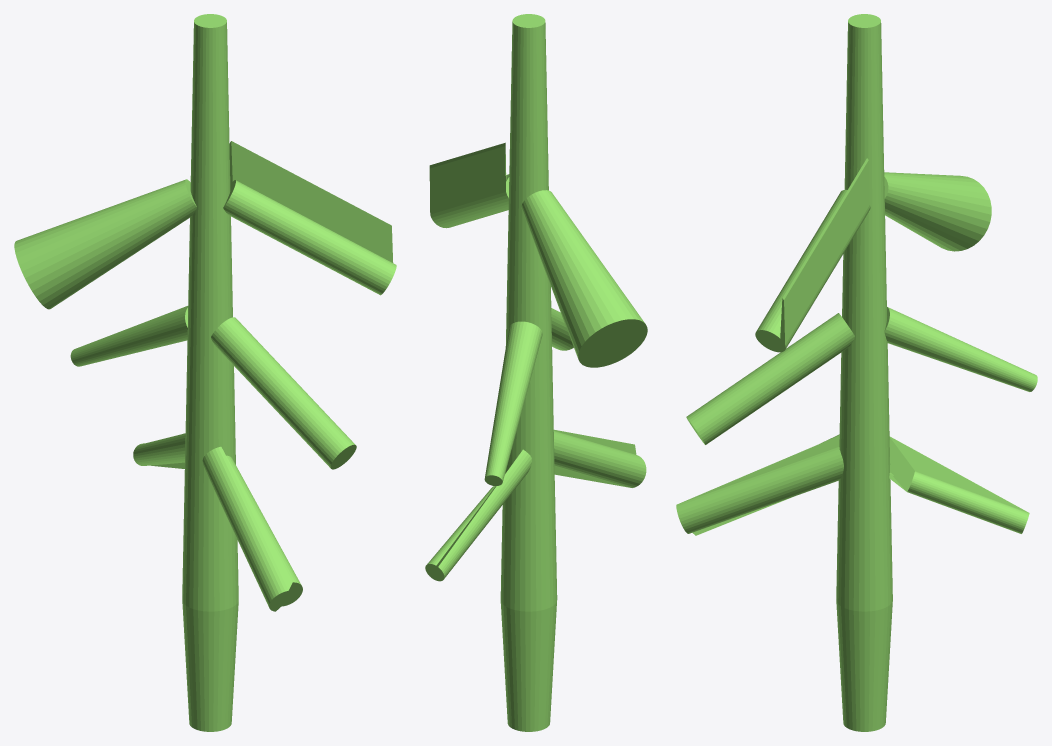
The model's file is tree2.glb.
The picture shows the model from 3 angles, left to right: view 1: azimuth 30°, elevation 25°; view 2: azimuth 150°, elevation 25°; view 3: azimuth 270°, elevation 25°; orthographic projection.
Parts seen in each view (by area): view 1: Cylinder; view 2: Cylinder; view 3: Cylinder.
Part boxes in pixels (x1,y1,x2,y2): Cylinder: (14, 14, 396, 731); Cylinder: (425, 14, 647, 731); Cylinder: (676, 14, 1037, 731).
Size of the model in its own units: 2.24 by 5.12 by 2.39.
